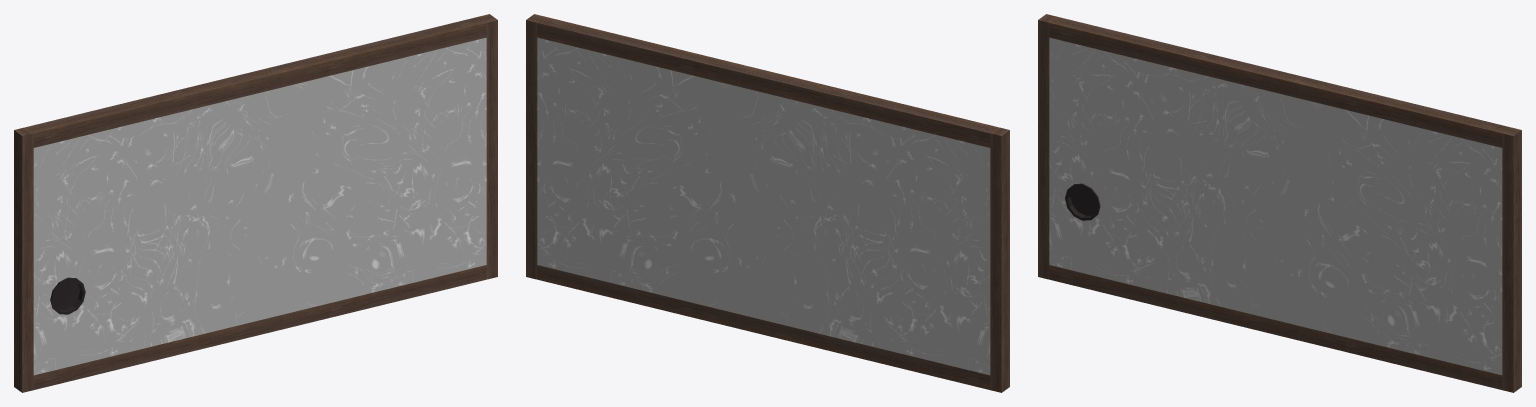
Rendered from toguti01r.fbx.
The picture shows the model from 3 angles, left to right: view 1: azimuth 30°, elevation 25°; view 2: azimuth 150°, elevation 25°; view 3: azimuth 330°, elevation 25°; orthographic projection.
Visible parts, largest first — view 1: toguti01r; view 2: toguti01r; view 3: toguti01r.
Boxes of the visible parts, left/top/right/bottom form: toguti01r: left=14, top=14, right=497, bottom=392; toguti01r: left=526, top=14, right=1009, bottom=392; toguti01r: left=1038, top=14, right=1521, bottom=392.
Bounding box in the file's own units: 110 × 56.68 × 3.69.
